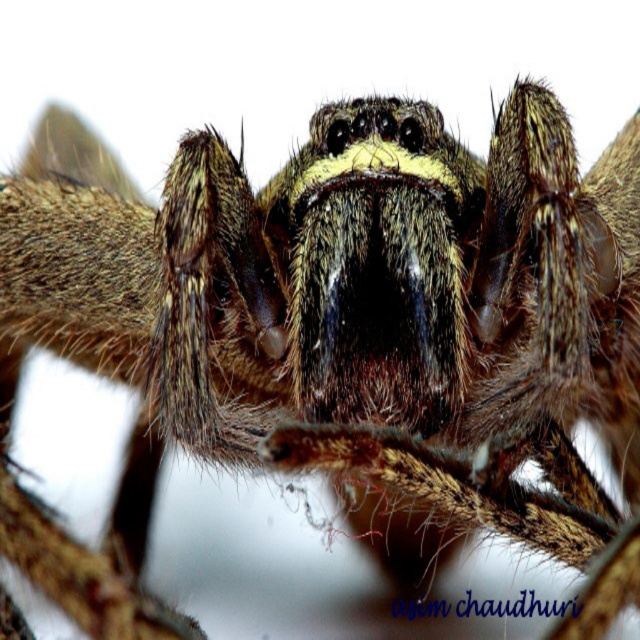Spider: (0, 70, 640, 640)
